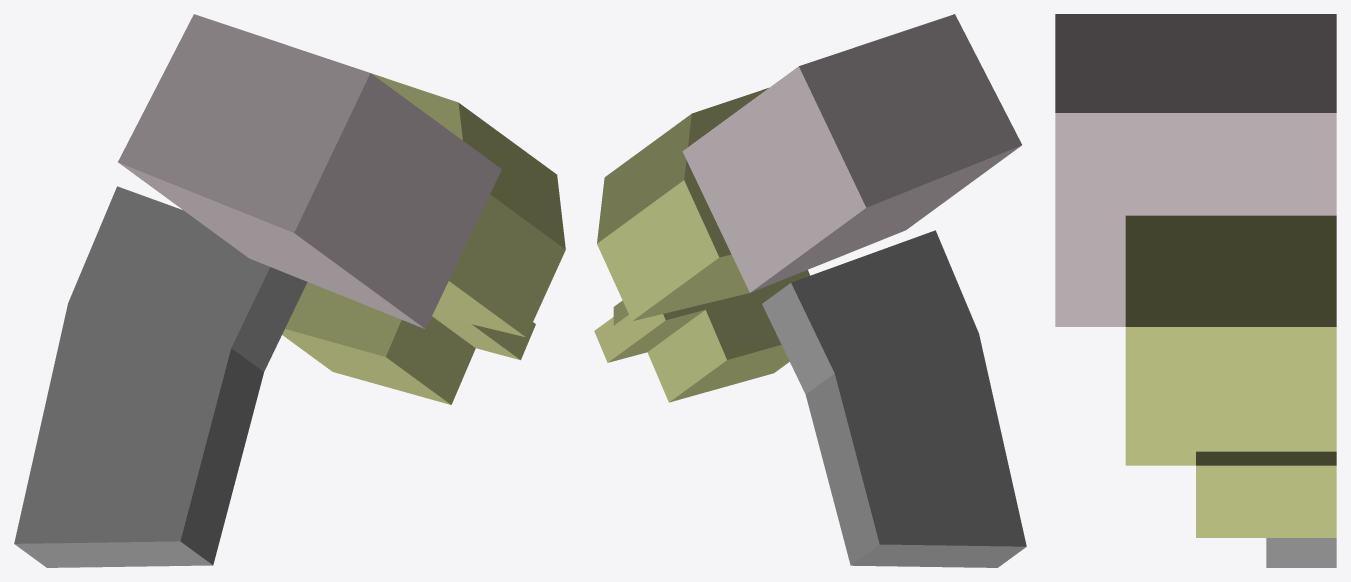
The picture shows the model from 3 angles, left to right: view 1: azimuth 30°, elevation 25°; view 2: azimuth 150°, elevation 25°; view 3: azimuth 270°, elevation 25°; orthographic projection. The views are drawn at different scales.
Visible parts, largest first — view 1: 0_1_1_3_3_1_0_2_3_1; view 2: 0_1_1_3_3_1_0_2_3_1; view 3: 0_1_1_3_3_1_0_2_3_1.
Part boxes in pixels (x1=…): 0_1_1_3_3_1_0_2_3_1: x1=14, y1=14, x2=565, y2=567; 0_1_1_3_3_1_0_2_3_1: x1=594, y1=14, x2=1026, y2=567; 0_1_1_3_3_1_0_2_3_1: x1=1055, y1=14, x2=1336, y2=567.
Bounding box in the file's own units: 24.04 × 26.39 × 12.
